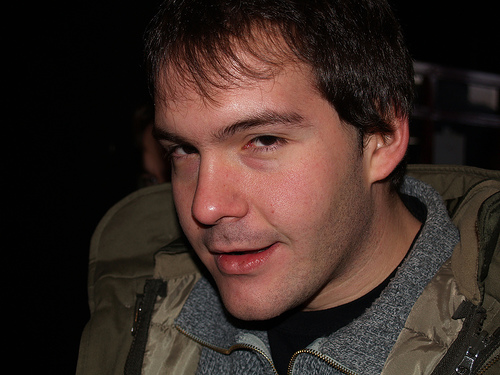without_mask: (124, 6, 432, 335)
